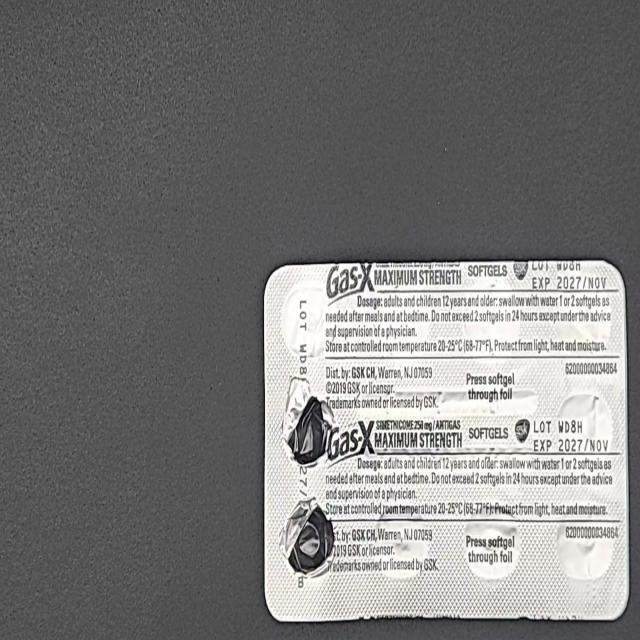defect: (280, 374, 338, 474), (276, 493, 338, 582)
